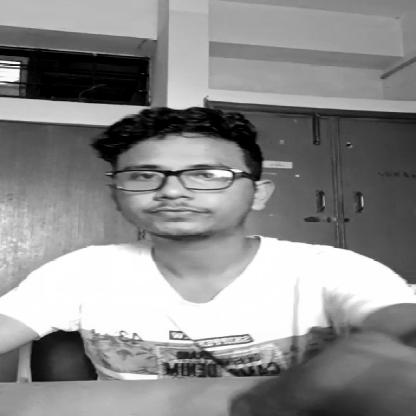Normal: (116, 105, 270, 244)
